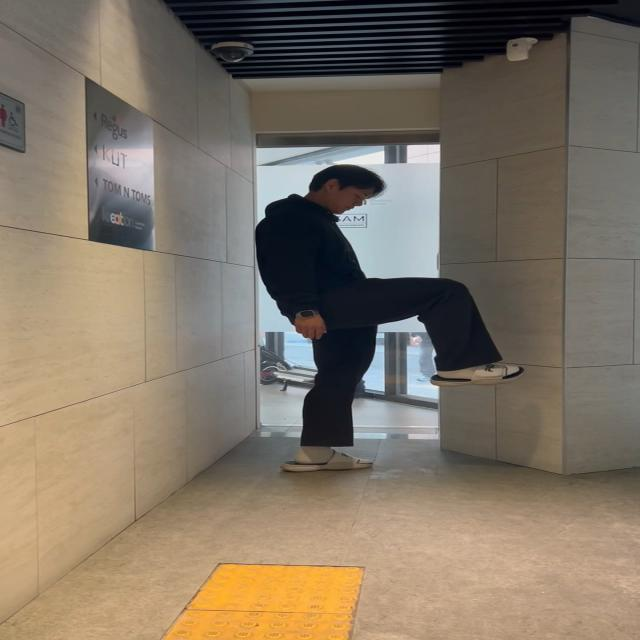knee: (360, 253, 532, 394)
